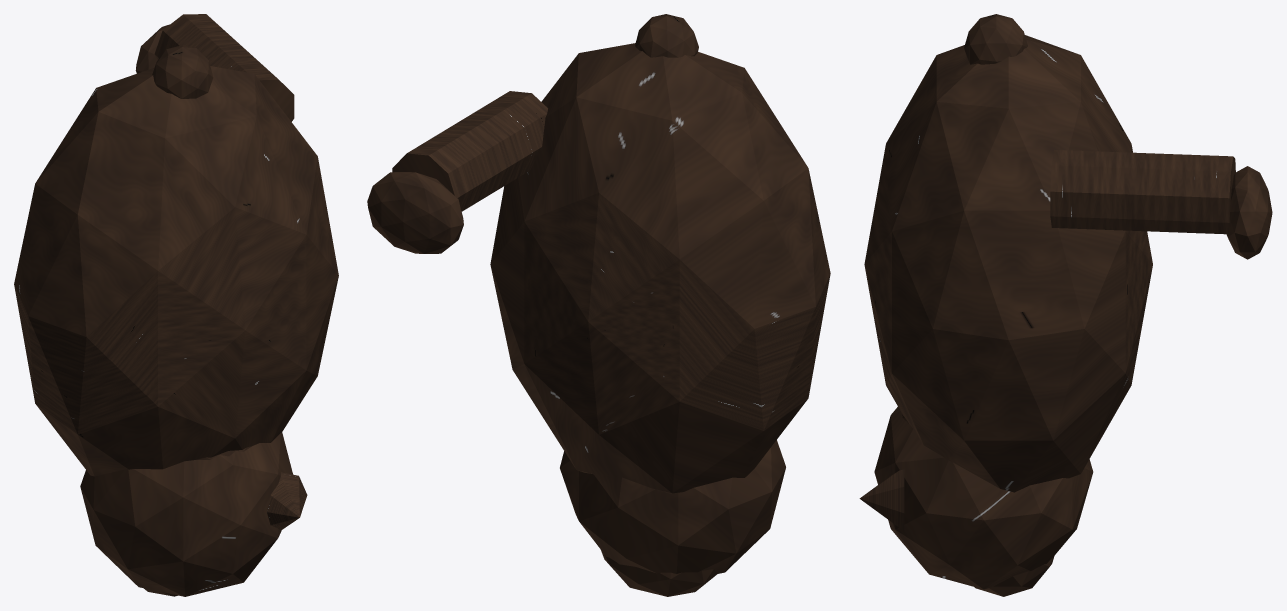
Rendered from bear.glb.
3 renders of one model, left to right at view 1: azimuth 30°, elevation 25°; view 2: azimuth 150°, elevation 25°; view 3: azimuth 270°, elevation 25°, orthographic. The views are drawn at different scales.
Parts seen in each view (by area): view 1: body, head, leg, tail, ear, paw; view 2: body, head, leg, paw, tail, muzzle; view 3: body, head, leg, paw, tail, ear, muzzle.
Part boxes in pixels (<box>): body: <box>14,66,338,476</box>; head: <box>80,432,292,596</box>; leg: <box>154,14,294,121</box>; tail: <box>152,45,213,98</box>; ear: <box>267,472,307,530</box>; paw: <box>135,24,169,73</box>; body: <box>490,43,830,493</box>; head: <box>560,440,785,573</box>; leg: <box>392,91,547,211</box>; paw: <box>367,172,463,253</box>; tail: <box>635,14,698,57</box>; muzzle: <box>601,550,717,596</box>; body: <box>864,35,1152,492</box>; head: <box>874,407,1093,589</box>; leg: <box>1050,149,1235,234</box>; paw: <box>1226,166,1272,259</box>; tail: <box>964,14,1027,64</box>; ear: <box>859,469,904,530</box>; muzzle: <box>974,556,1054,596</box>.
Bounding box in the file's own units: 1.52 × 2.54 × 1.66.
Materials: 1 (1 with a texture image).
